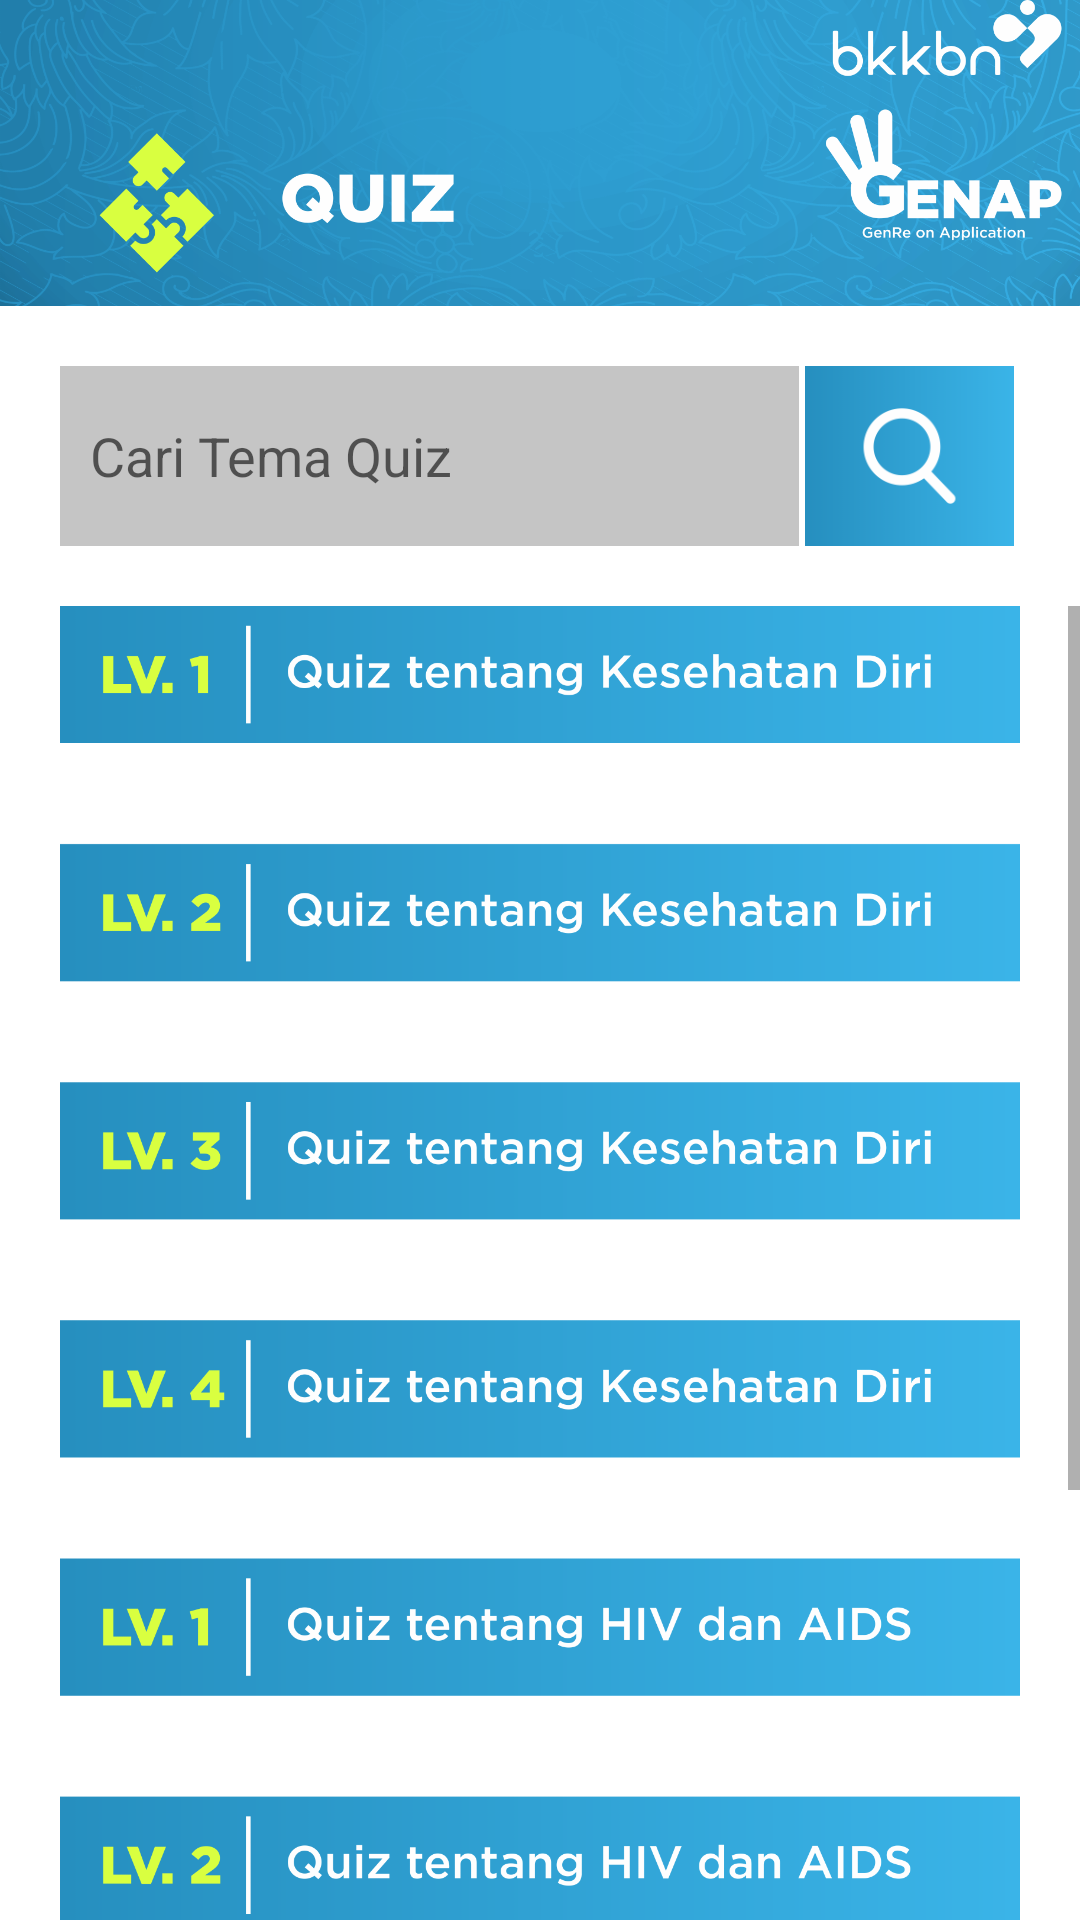

Where icons sit on this 1080×1920 app screen, as (x1, y1, x2, y2):
search: (805, 366, 1014, 546)
